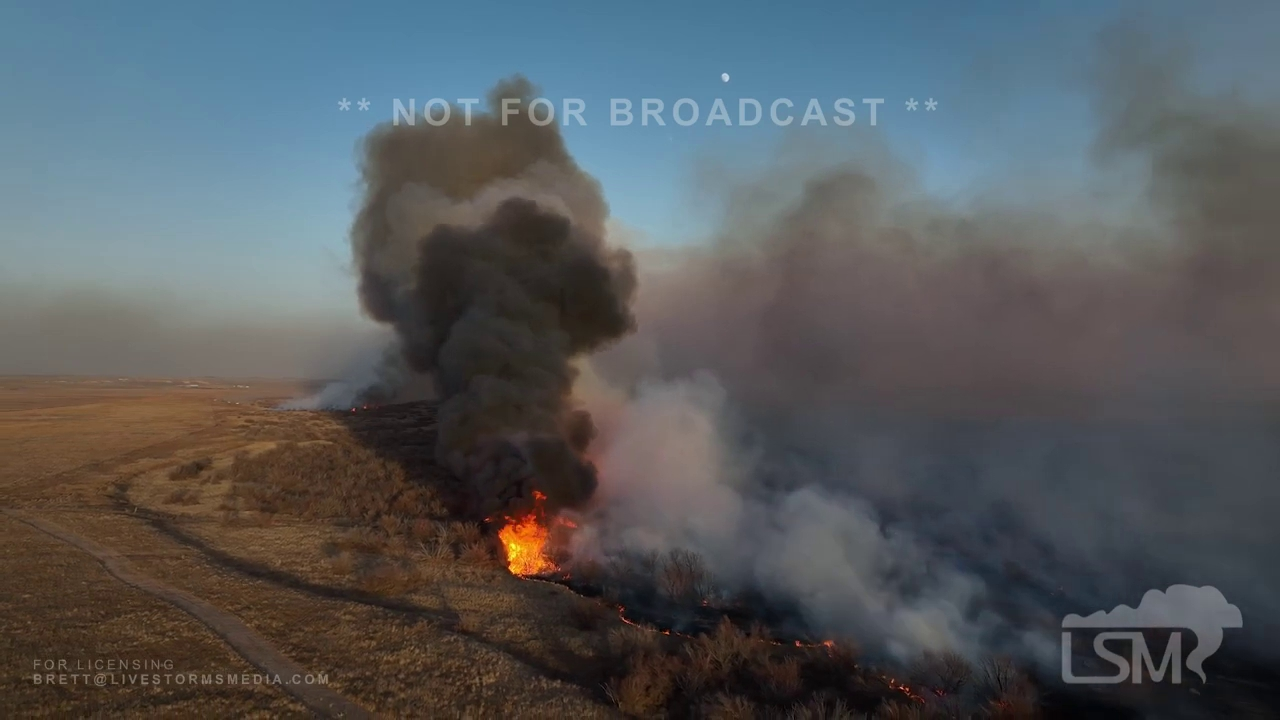forest_fire: (498, 490, 558, 576)
